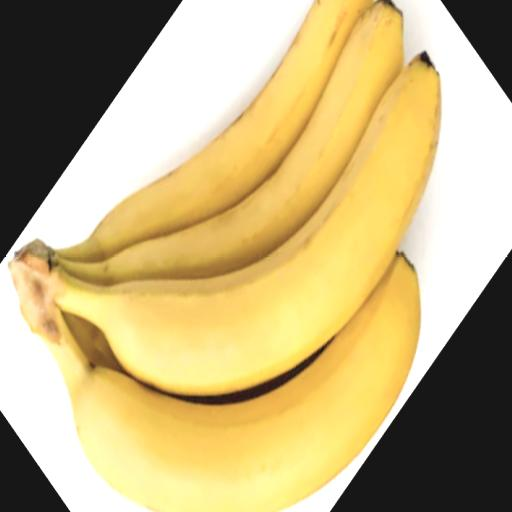banana-ripe: (9, 0, 480, 512)
